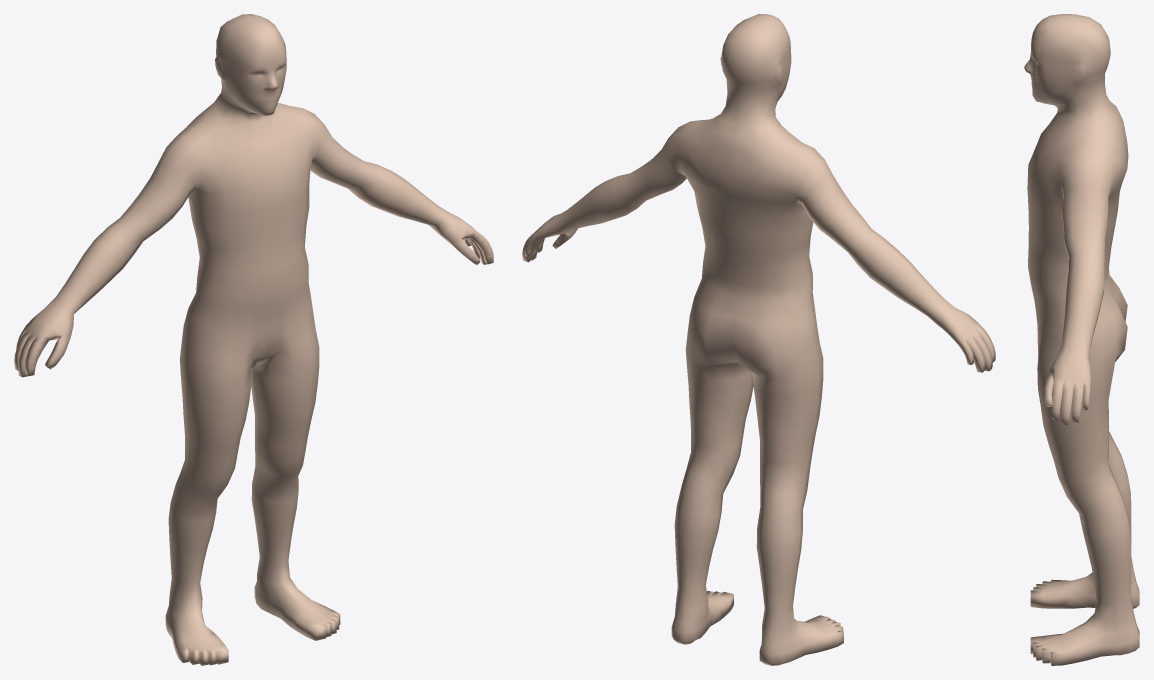
Rendered from scale_ref.fbx.
3 views of the same model, side by side, from view 1: azimuth 30°, elevation 25°; view 2: azimuth 150°, elevation 25°; view 3: azimuth 270°, elevation 25° (orthographic).
Parts seen in each view (by area): view 1: man; view 2: man; view 3: man.
Boxes of the visible parts, left/top/right/bottom form: man: left=14, top=14, right=493, bottom=665; man: left=522, top=14, right=995, bottom=665; man: left=1024, top=14, right=1139, bottom=665.
Size of the model in its own units: 144 by 182 by 31.03.
